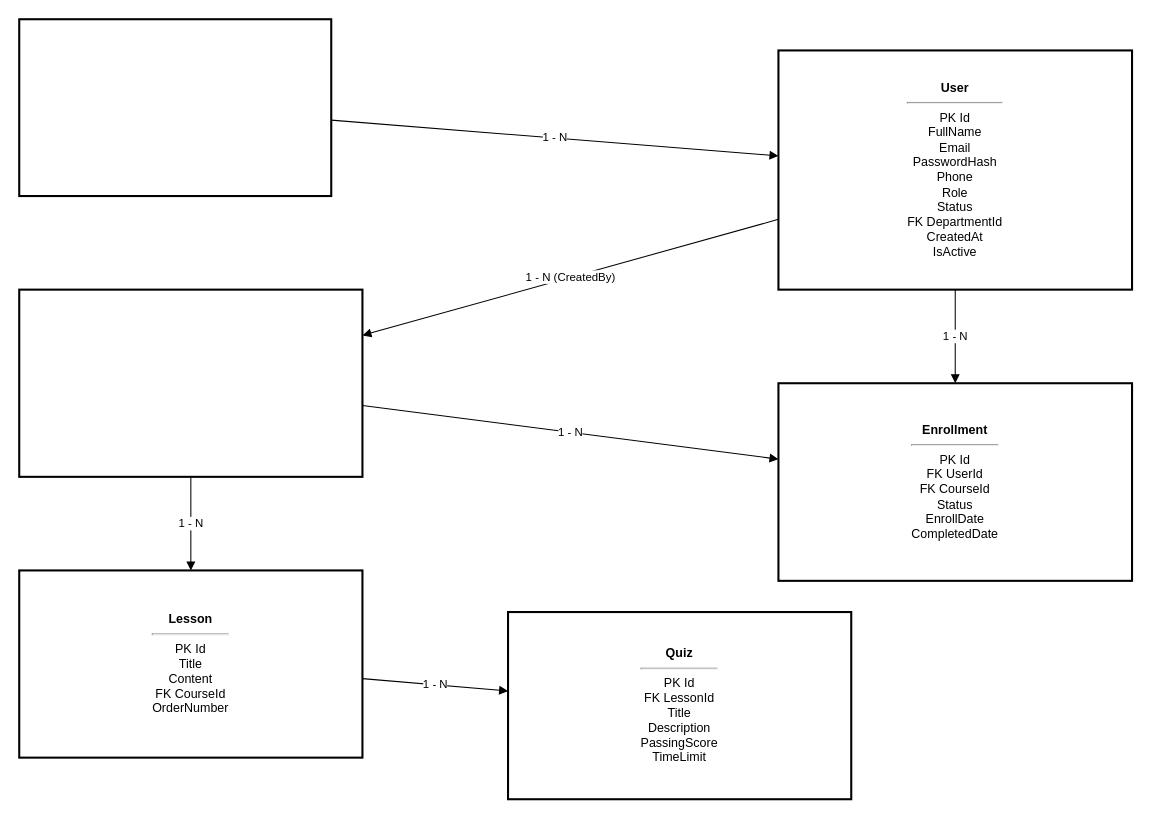
The diagram is 1150 pixels wide and 817 high, and some of its shapes have lost their labels. The shapes that lost their labels are listed below. From the top down, each one's centre as x and y in pixels, then its label:
At point (175, 107): "Department PK Id Name Description CreatedAt UpdatedAt IsDeleted".
At point (190, 382): "Course PK Id Title Description CreatedAt FK CreatedByUserId".
